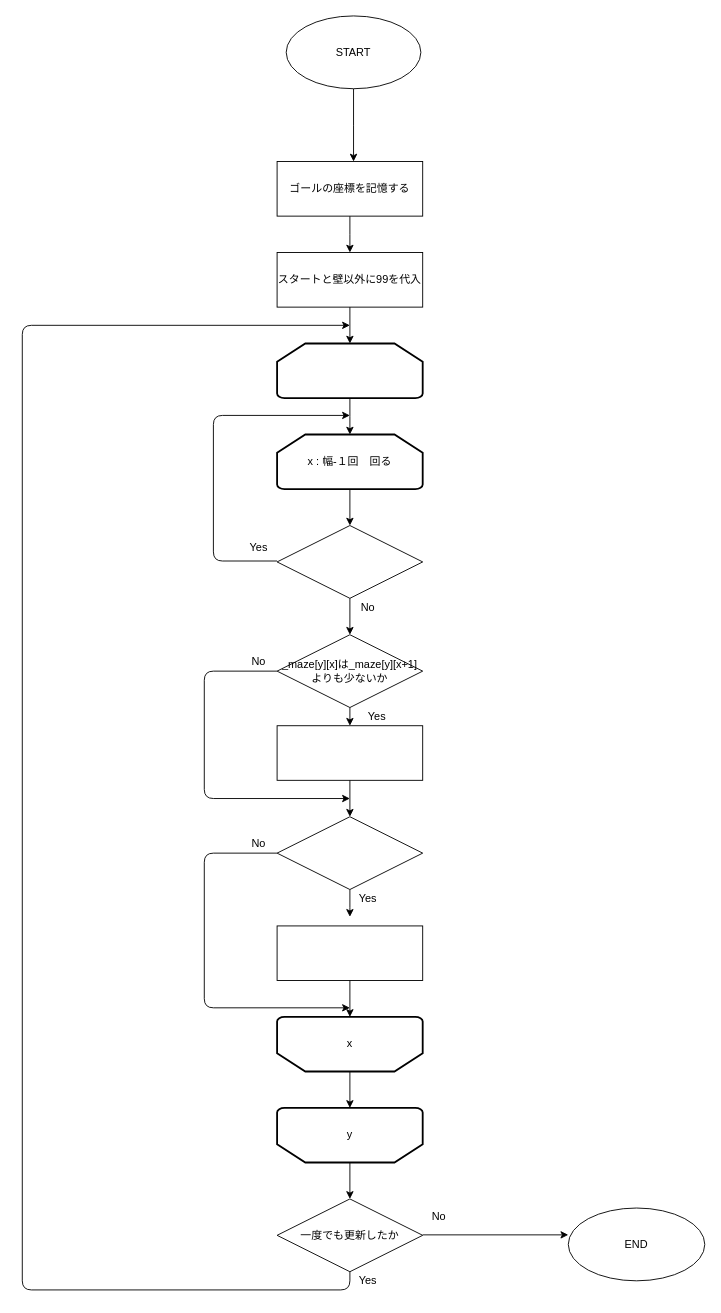
Some shapes in this 721 by 1313 pixel diagram are drawn without their labels. The centre of each missing label's shape, as x and y in pixels:
"_maze[y+1][x]を _maze[y][x]+costで更新" goes at point (349, 953).
"_maze[y][x+1]を _maze[y][x]+costで更新" goes at point (349, 752).
"_maze[y][x]は_maze[y+1][x] よりも少ないか" goes at point (349, 853).
"_maze[y][x]は壁か？" goes at point (349, 561).
"y : 高さ-１回 回る" goes at point (349, 370).
